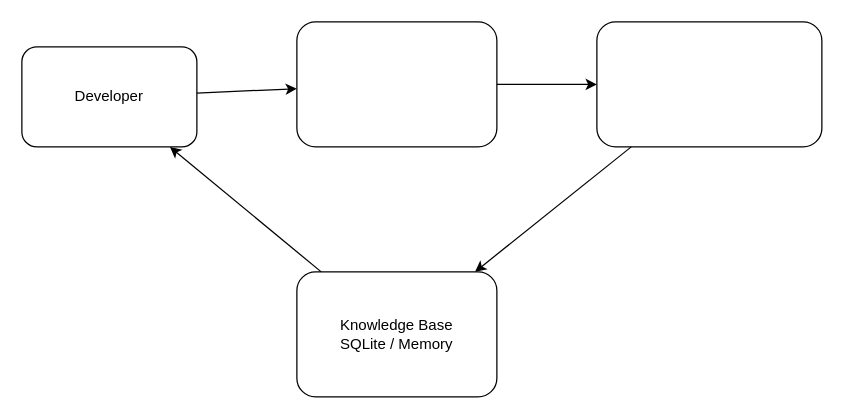
The diagram is 844 pixels wide and 419 high, and some of its shapes have lost their labels. Here are the shapes that lost their labels. From the top down, the box of each, then its label:
(296, 21, 497, 147): VS Code Extension IndexerHttpClient
(596, 21, 822, 147): Backend Indexer Service Hono /api/index/source
